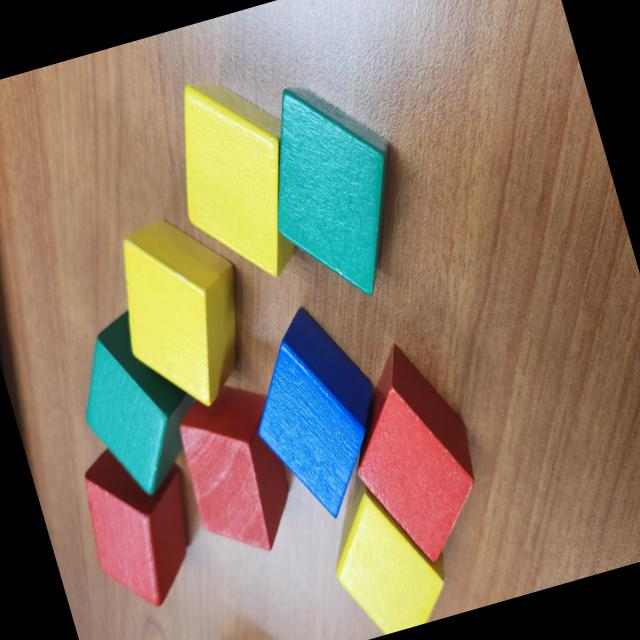blue: (226, 292, 406, 533)
green: (58, 298, 220, 510), (279, 87, 389, 291)
red: (324, 328, 500, 576), (163, 364, 310, 568), (67, 426, 215, 620)
yellow: (152, 62, 324, 297), (100, 206, 269, 422), (309, 453, 461, 640)
